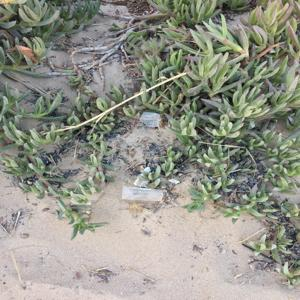plastic: (114, 181, 171, 212), (136, 106, 171, 134)
